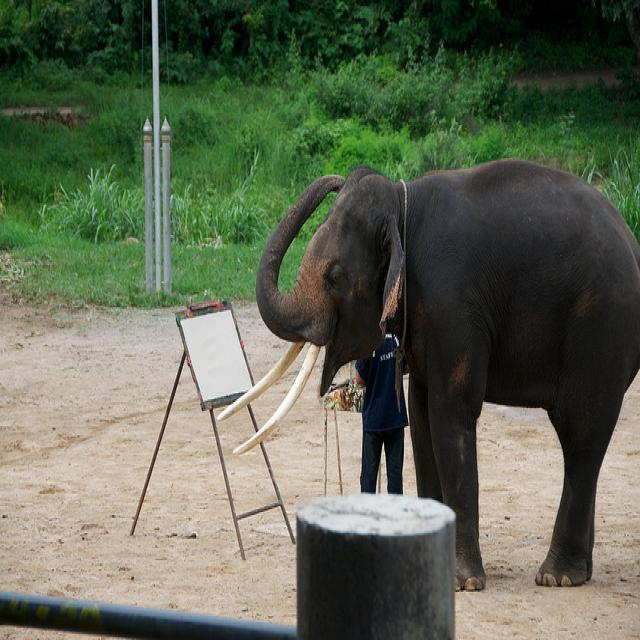Elephant: (215, 157, 639, 590)
person: (354, 331, 409, 494)
